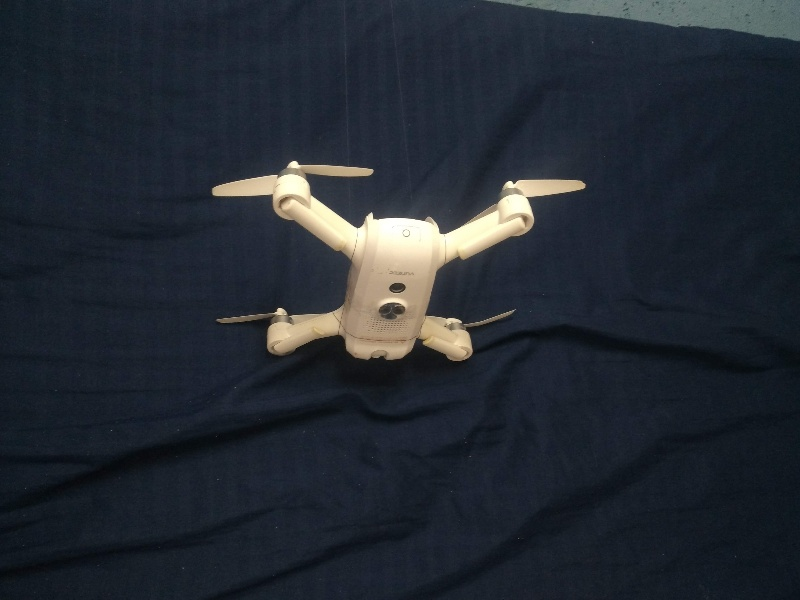drone: (207, 147, 586, 366)
